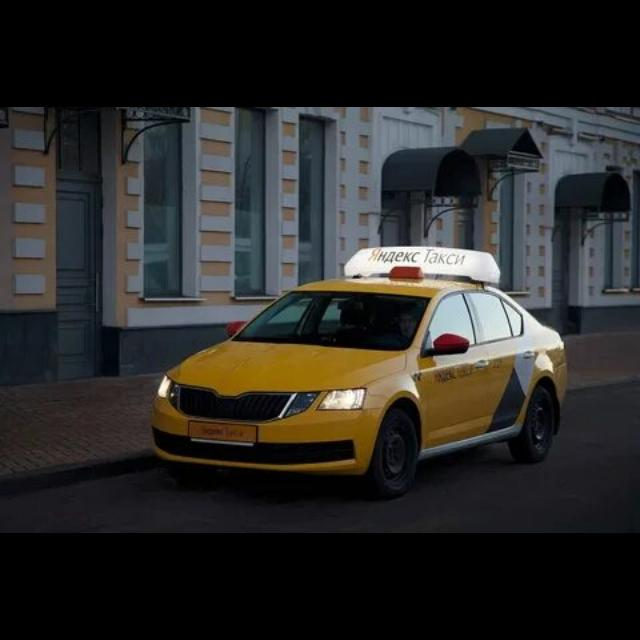taxi: (151, 246, 569, 500)
